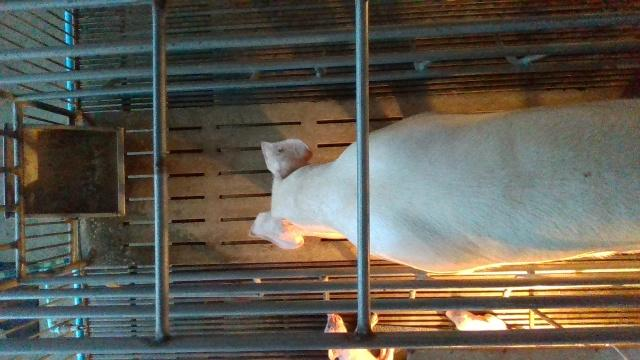piglet: (324, 313, 394, 360), (447, 309, 509, 331)
sow-stand: (250, 97, 640, 273)
